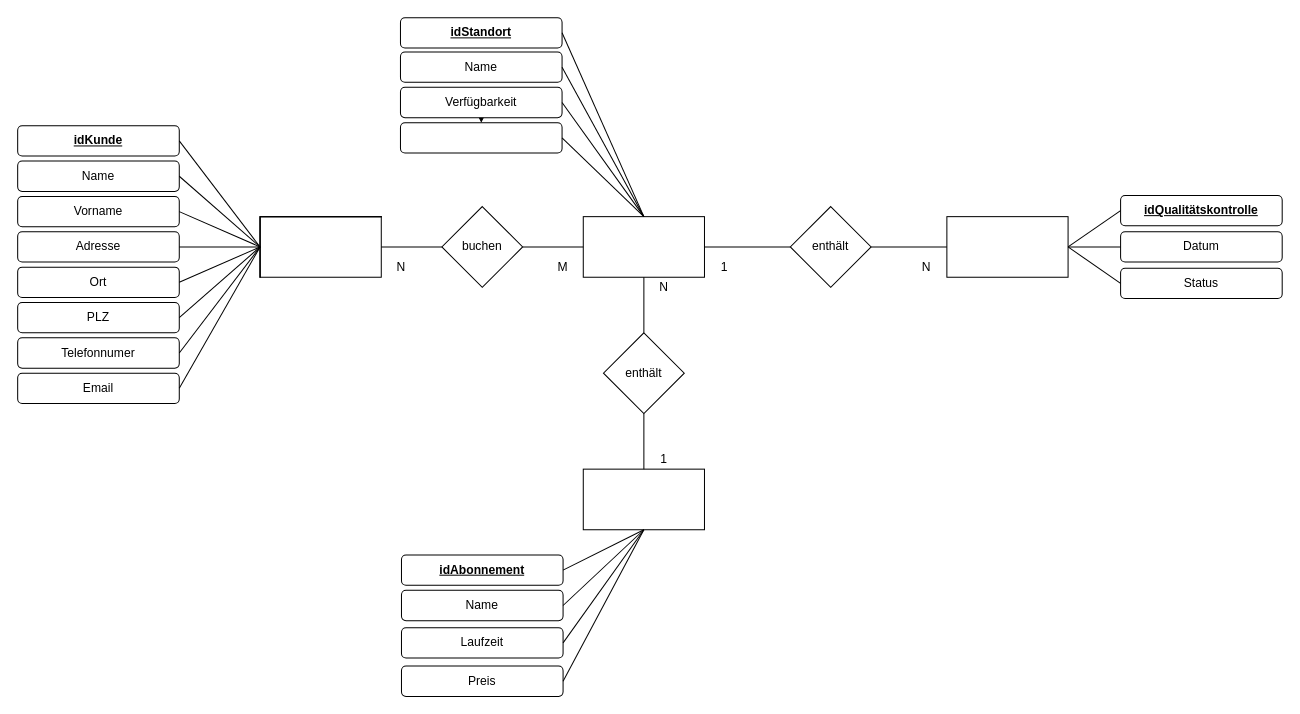
The diagram is 1300 pixels wide and 714 high, and some of its shapes have lost their labels. Each missing label, with the centre of its shape:
Abonnement: point (643, 499)
Kunde: point (320, 246)
Markttag: point (480, 137)
Qualitätstkontrolle: point (1007, 246)
Standort: point (643, 246)
